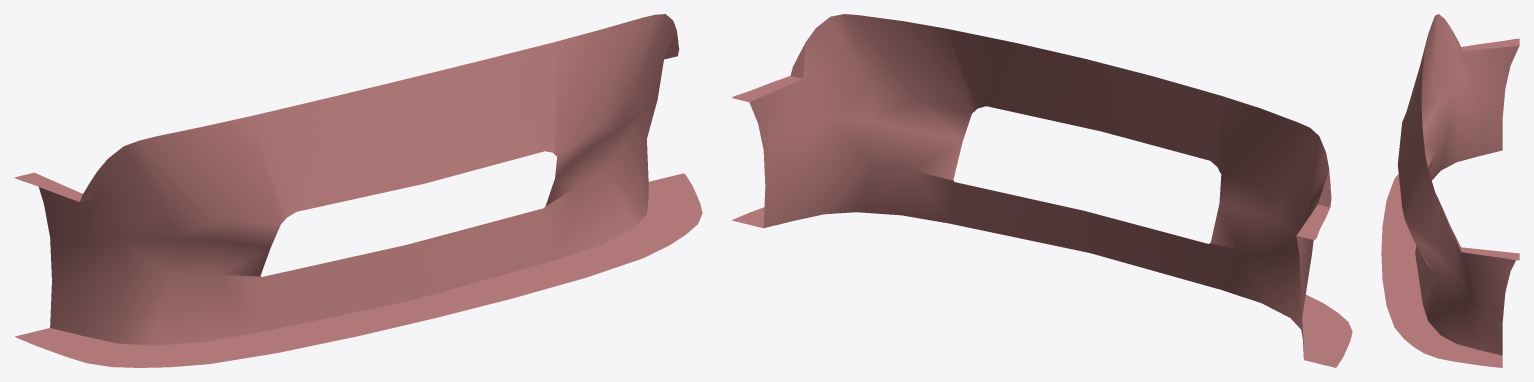
The model's file is MX5_FB02_Trim1.fbx.
The picture shows the model from 3 angles, left to right: view 1: azimuth 30°, elevation 25°; view 2: azimuth 150°, elevation 25°; view 3: azimuth 270°, elevation 25°; orthographic projection. The views are drawn at different scales.
Visible parts, largest first — view 1: MX5_FB02_Trim1; view 2: MX5_FB02_Trim1; view 3: MX5_FB02_Trim1.
Boxes of the visible parts, box(x1,y1,x2,y2) form: MX5_FB02_Trim1: box(14, 14, 702, 367); MX5_FB02_Trim1: box(732, 14, 1352, 367); MX5_FB02_Trim1: box(1381, 14, 1519, 367).
Bounding box in the file's own units: 162 × 50.53 × 41.26.
